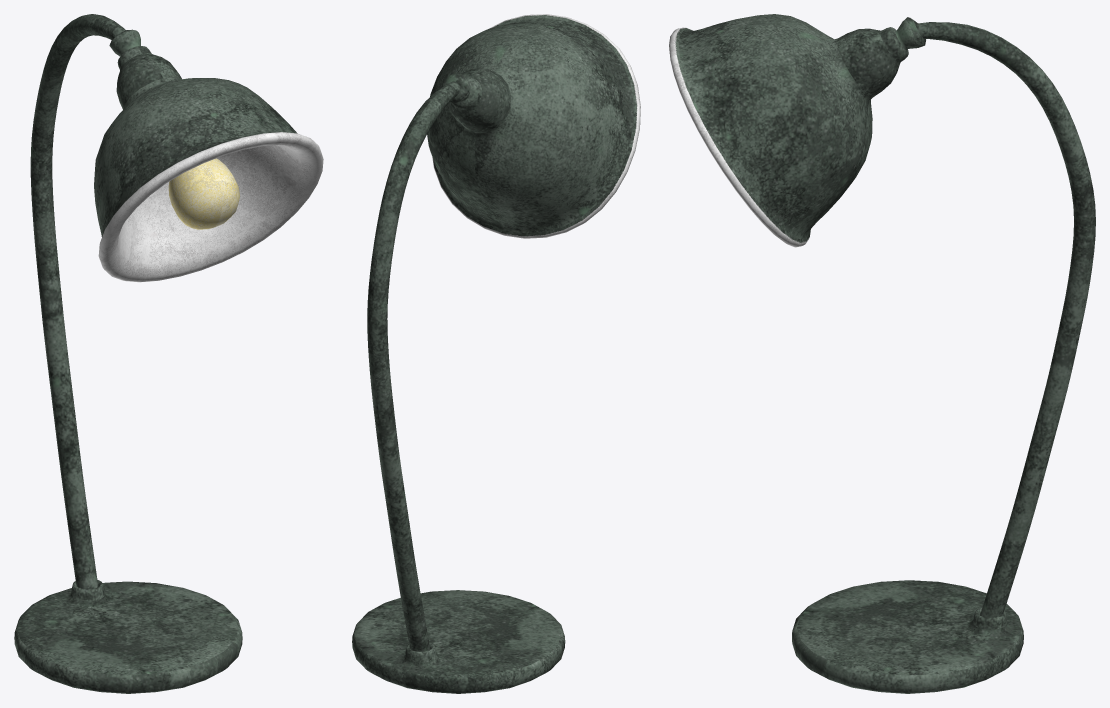
The model's file is Lamp.fbx.
3 views of the same model, side by side, from view 1: azimuth 30°, elevation 25°; view 2: azimuth 150°, elevation 25°; view 3: azimuth 270°, elevation 25° (orthographic). The views are drawn at different scales.
Visible parts, largest first — view 1: Cube.002; view 2: Cube.002; view 3: Cube.002.
Boxes of the visible parts, x1,y1,x2,y2 form: Cube.002: (14,14,323,693); Cube.002: (352,14,640,693); Cube.002: (669,14,1095,693).
Bounding box in the file's own units: 37.62 × 105 × 64.63.
Materials: 1 (1 with a texture image).
